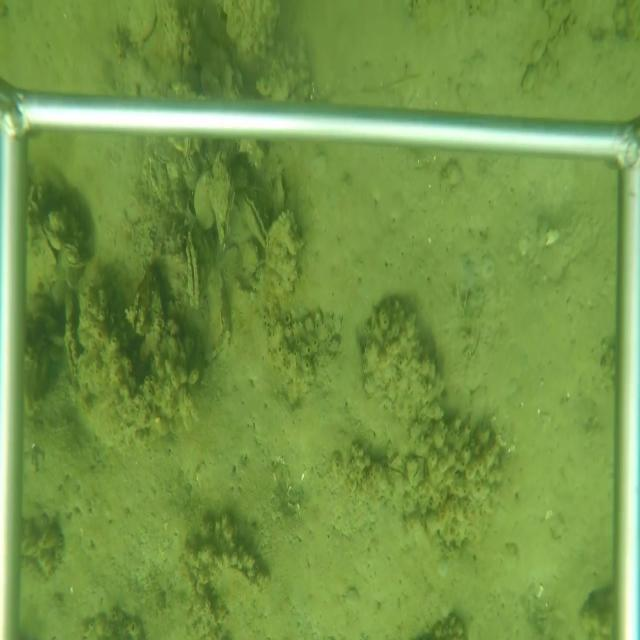Oyster-Closed: (205, 151, 236, 255), (204, 266, 233, 370), (241, 184, 271, 258), (183, 228, 202, 317), (155, 148, 172, 166), (185, 155, 199, 173), (184, 138, 192, 153)
